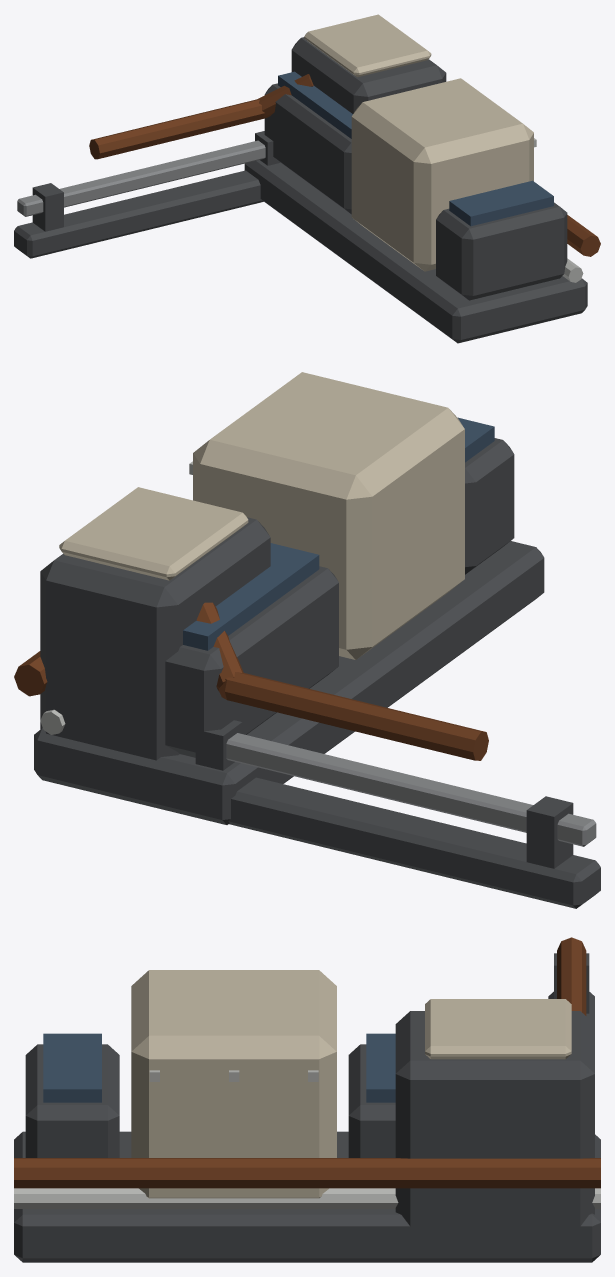
File: cargo-bay-corner-ne.glb
3 views of the same model, one above another, from view 1: azimuth 30°, elevation 25°; view 2: azimuth 150°, elevation 25°; view 3: azimuth 270°, elevation 25° (orthographic). The views are drawn at different scales.
Visible parts, largest first — view 1: body; view 2: body; view 3: body.
Boxes of the visible parts, box(x1,y1,x2,y2) form: body: box(14, 14, 600, 343); body: box(14, 372, 600, 908); body: box(14, 937, 600, 1262).
Bounding box in the file's own units: 2.03 × 0.82 × 2.
